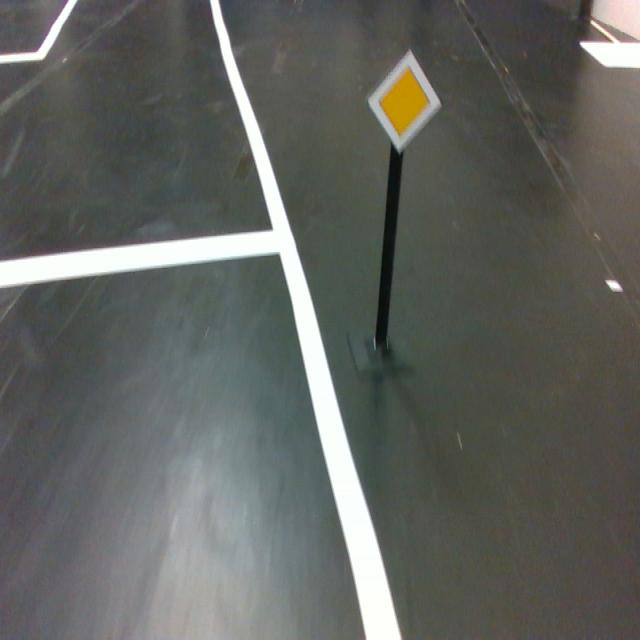priority-sign: (366, 48, 443, 155)
